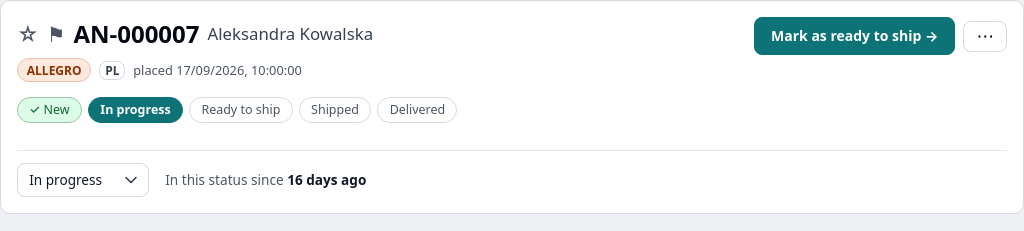
the header of the order page › keeps deleting under a menu, which closes on Escape and after a choice
This screenshot has width=1024, height=231.
Click the button named "Actions": coordinates (985, 36) [963,21,1007,52]
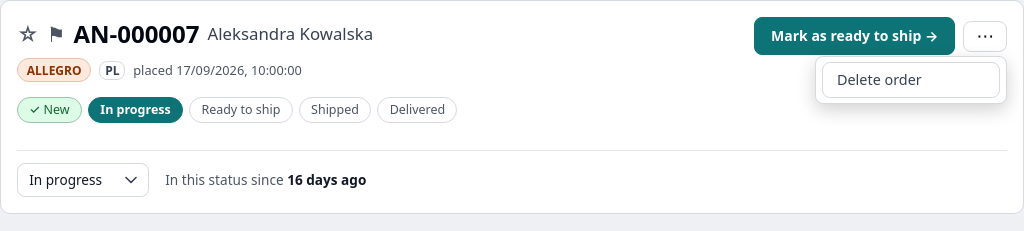
Press Escape
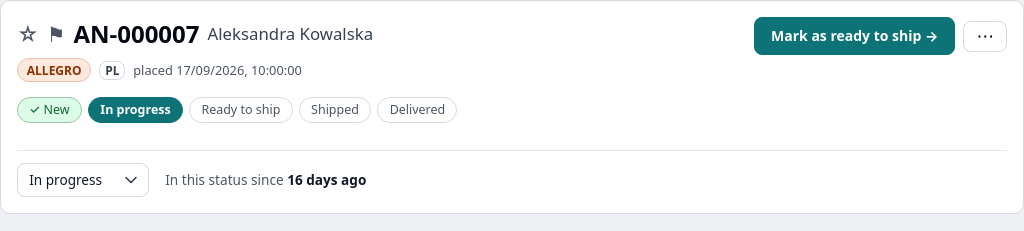
expect the menu item is gone: met
Click the button named "Actions": coordinates (985, 36) [963,21,1007,52]
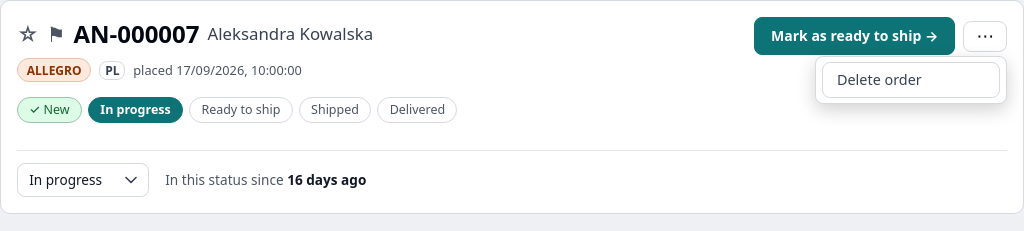
Click the menu item "Delete order": coordinates (911, 80) [822,62,1000,98]
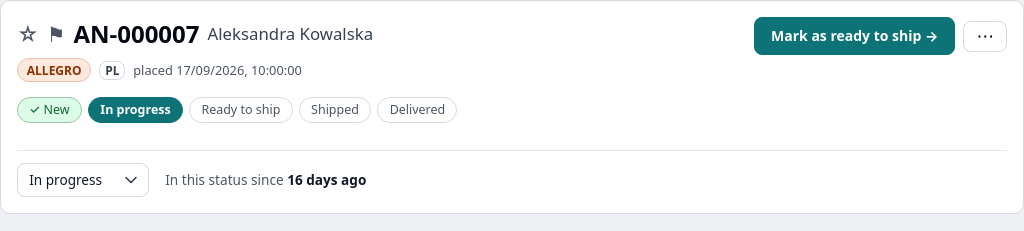
expect the menu item is gone: met
